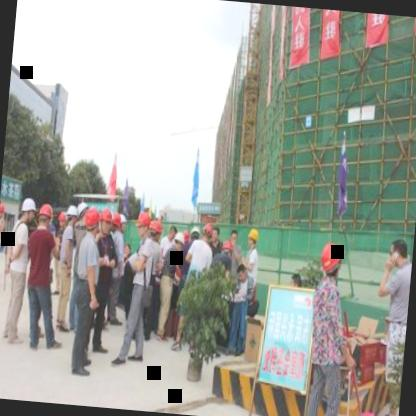helmet: (320, 242, 346, 282), (19, 195, 38, 224), (98, 206, 116, 236), (84, 207, 102, 236), (148, 218, 165, 247), (37, 202, 54, 231), (136, 209, 152, 238), (76, 200, 91, 225), (245, 228, 262, 250), (65, 202, 78, 229), (110, 212, 124, 237), (201, 219, 214, 240), (219, 242, 236, 258), (57, 210, 68, 233), (174, 232, 186, 252), (189, 224, 202, 242), (119, 214, 128, 235), (0, 203, 7, 223)
